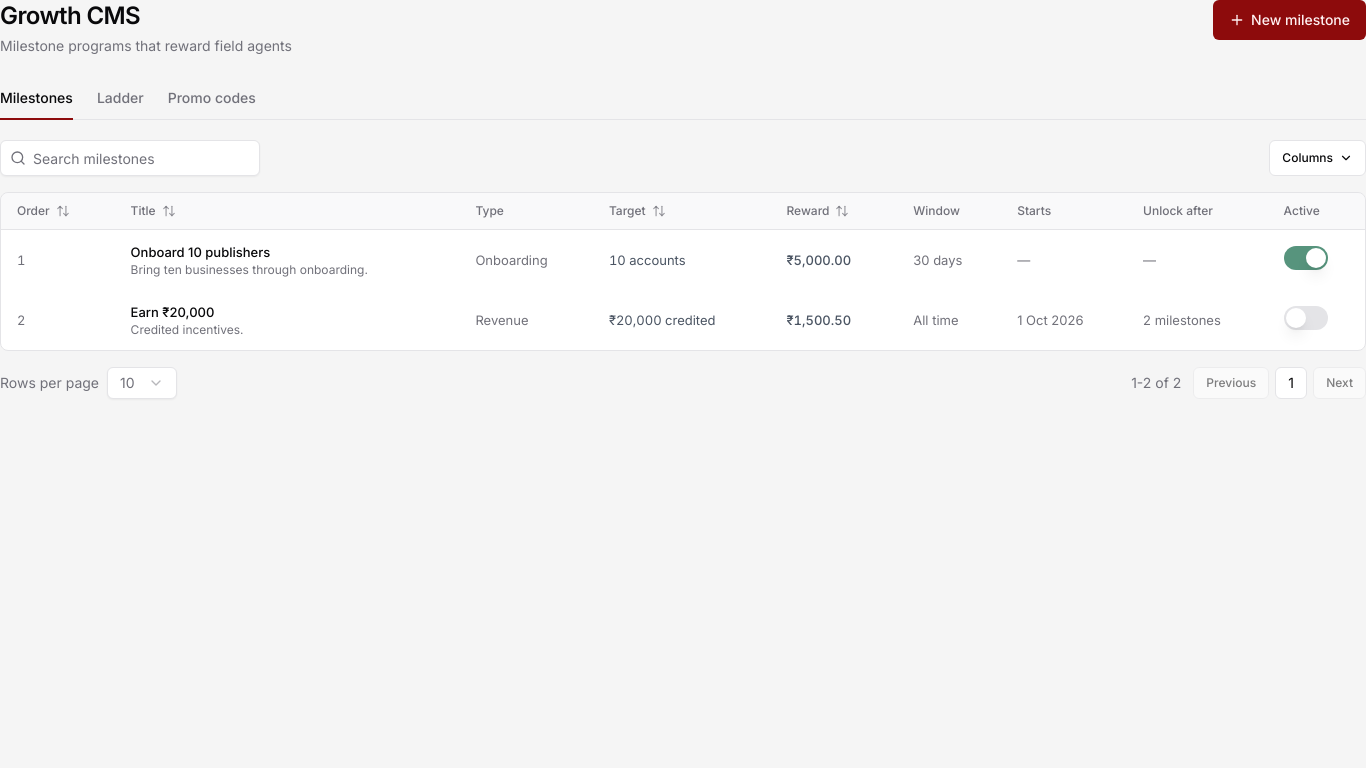
Test: New milestone › will not send a reward the schema would refuse
Click the button "New milestone". click: coordinates (1290, 20)
box: [1213,0,1365,40]
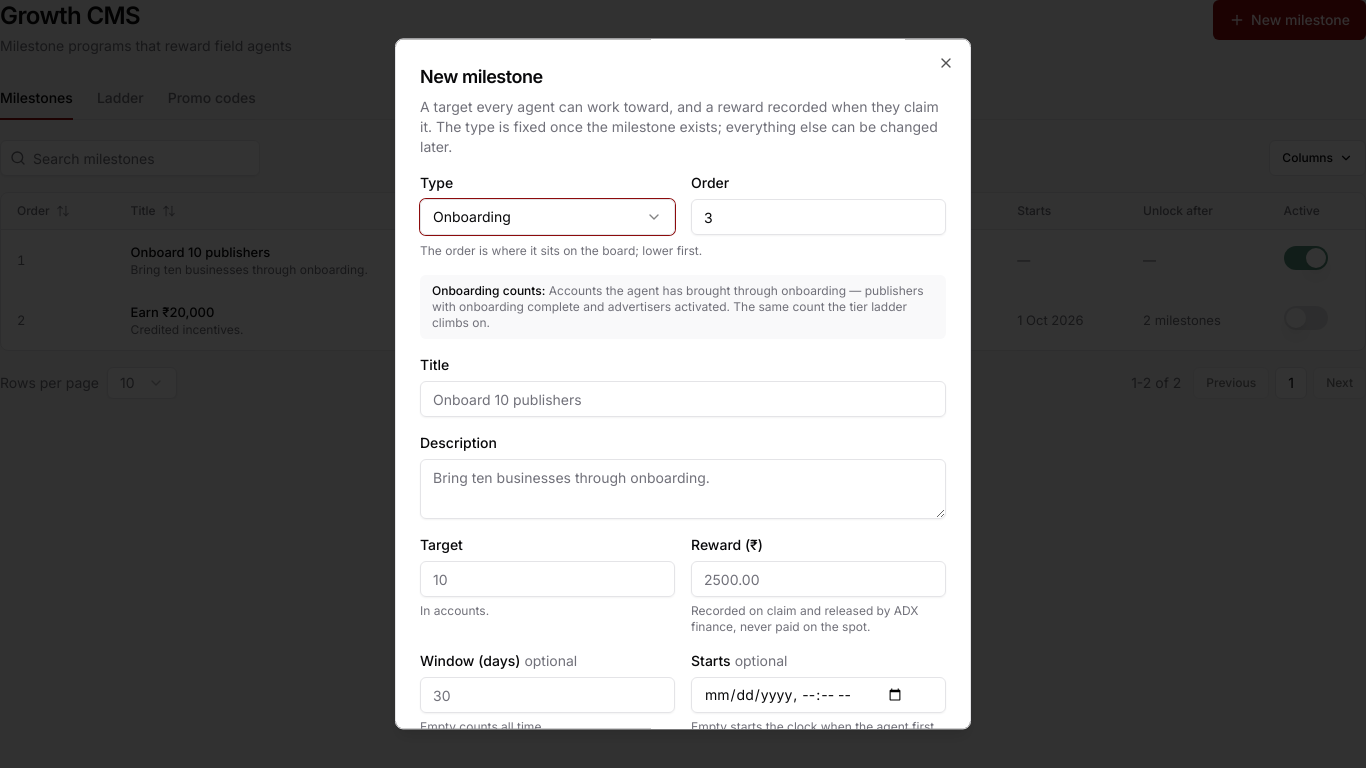
Type "Verify 15 sites" into the field labelled "Title". click: coordinates (683, 399)
box: [420,381,946,417]
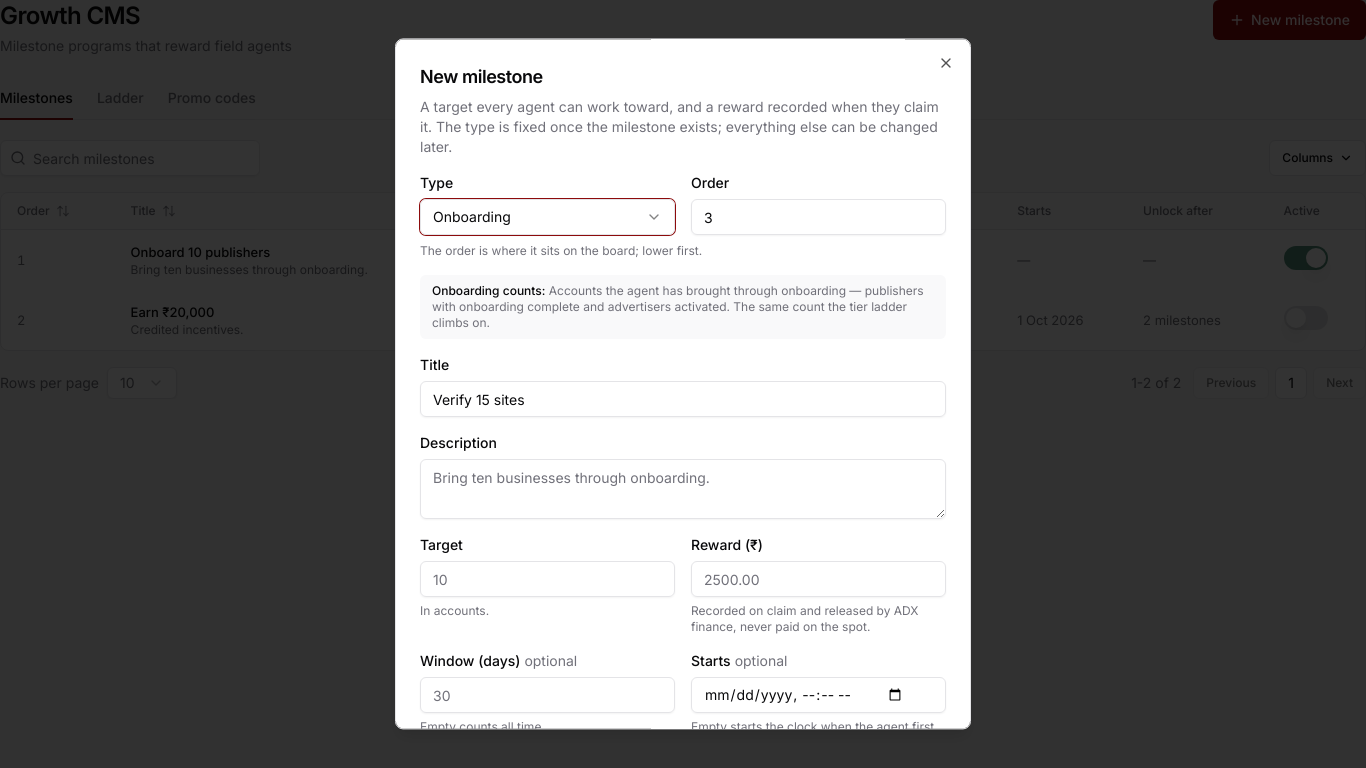
Type "Fifteen." into the text box labelled "Description". click: coordinates (683, 489)
box: [420,459,946,519]
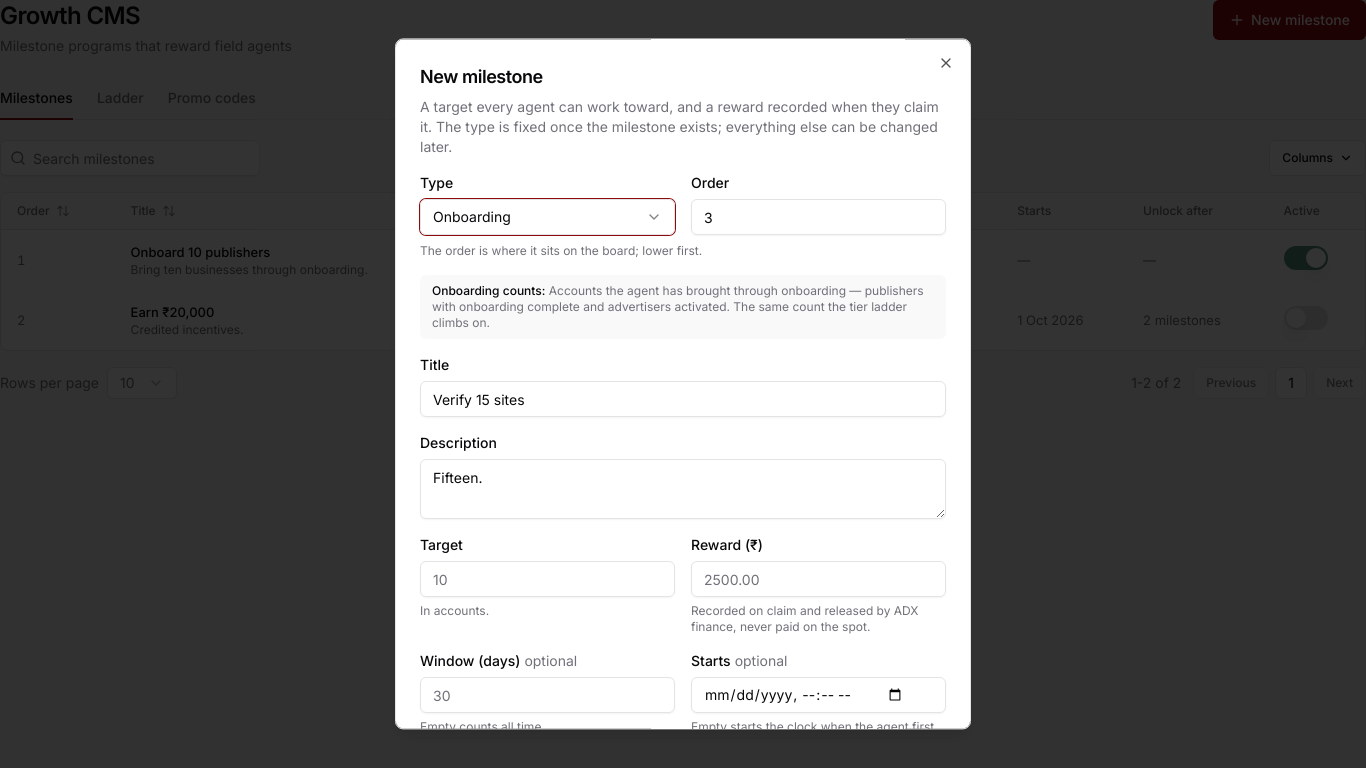
Type "15" into the number field labelled "Target". click: coordinates (548, 579)
box: [420,561,675,597]
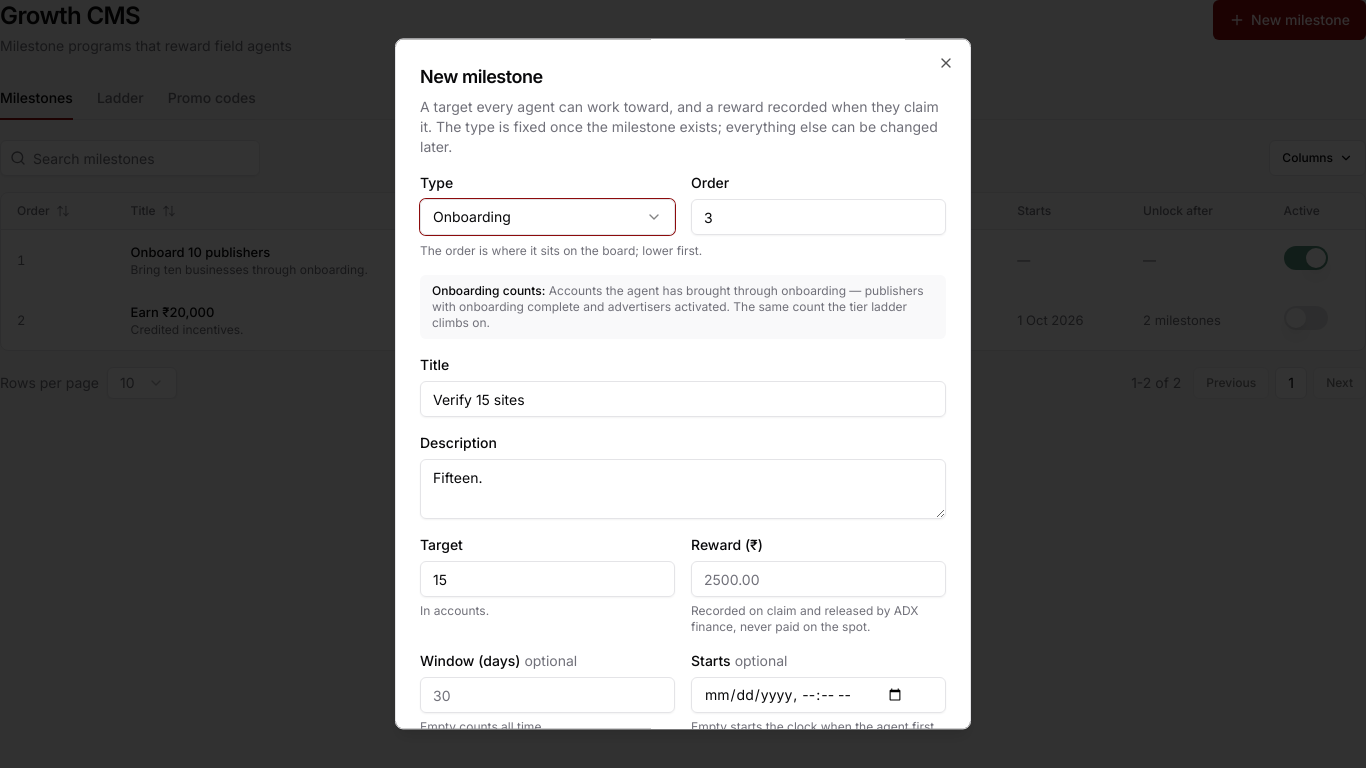
Type "2,500" into the field labelled "Reward (₹)". click: coordinates (818, 579)
box: [691,561,946,597]
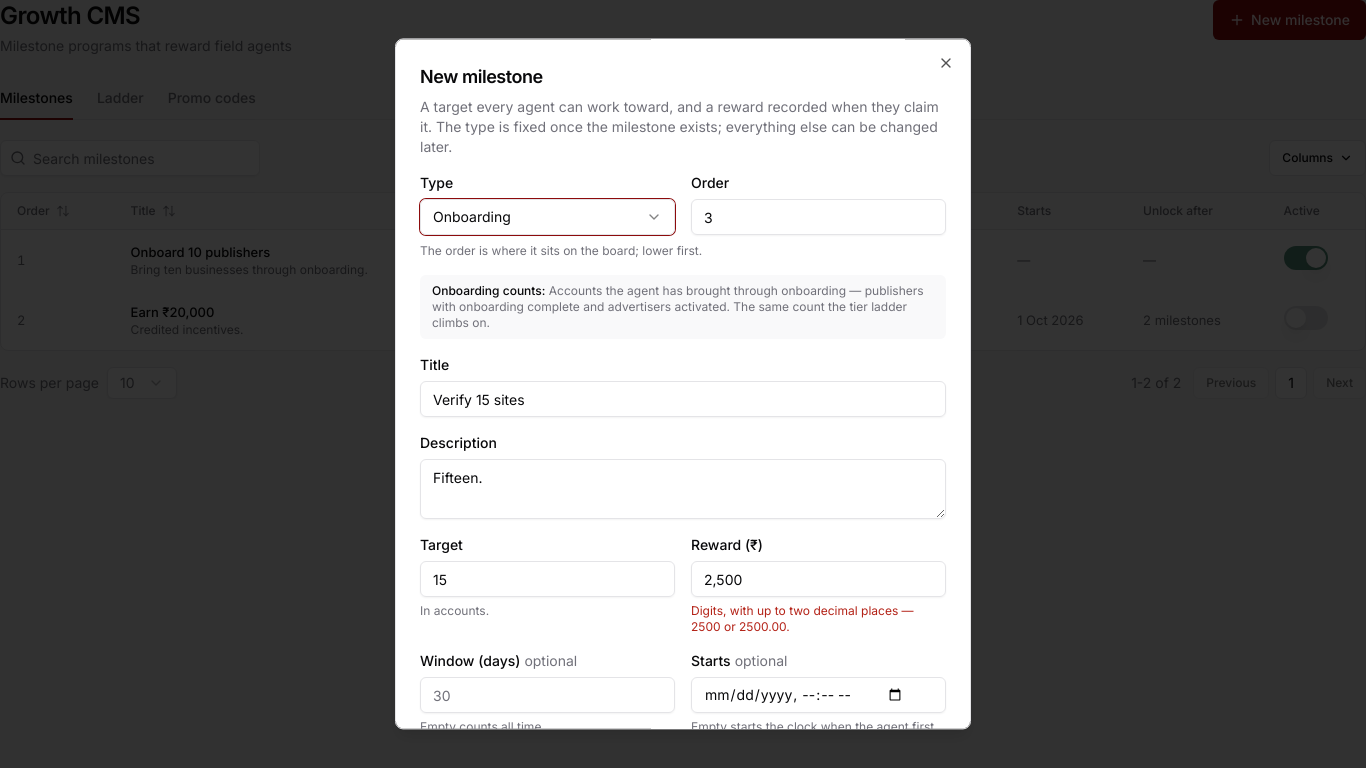
expect the text "Digits, with up to two decimal places — 2500 or 2500.00." is shown: met, box [691,603,946,635]
